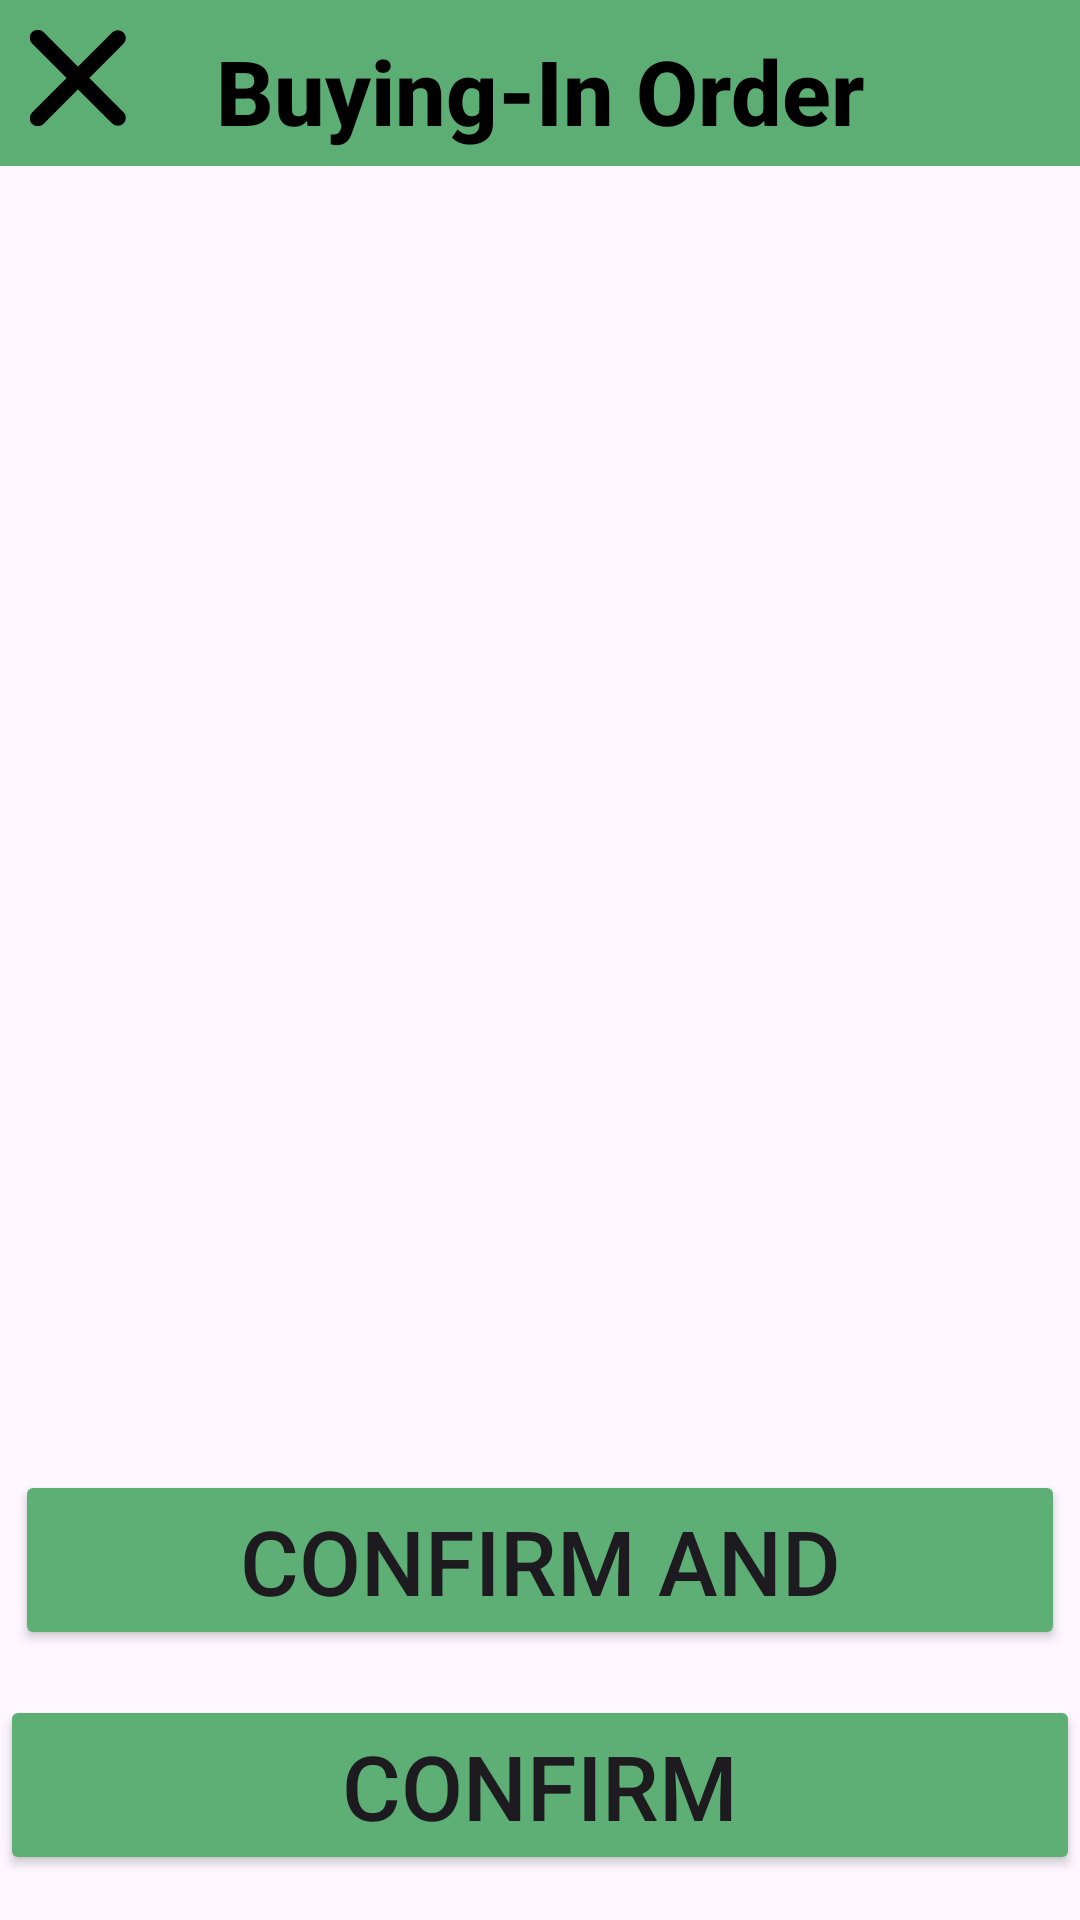

Named icons in this screenshot (1080px×1920px) and their centers, point (x, y):
close: point (78, 78)
